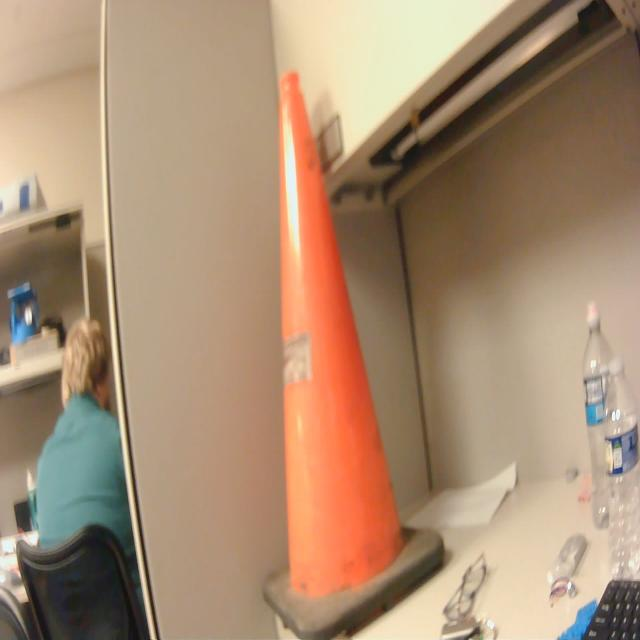traffic cone: (258, 65, 451, 640)
